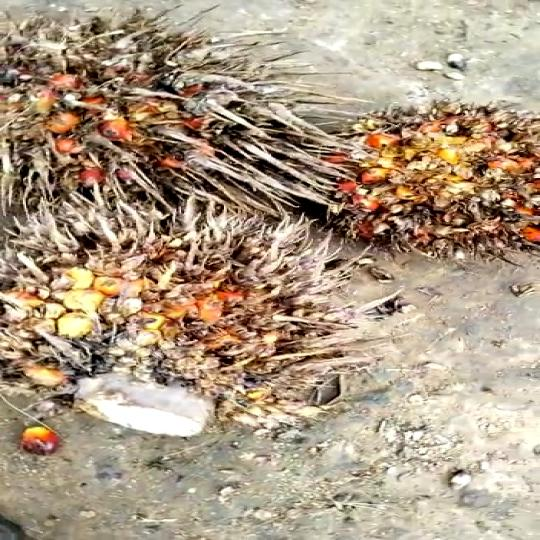terlalu masak: (0, 214, 374, 437), (0, 0, 280, 214), (262, 96, 540, 252)
